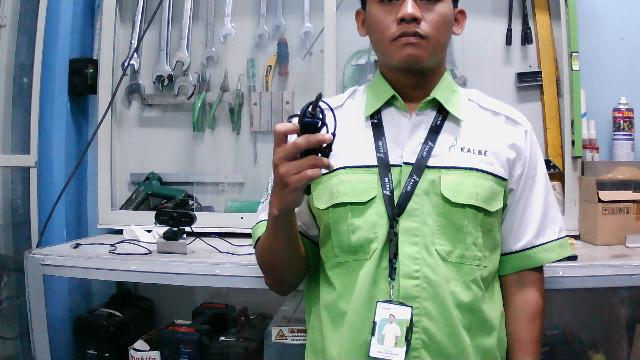solder_electrical: (281, 90, 351, 197)
